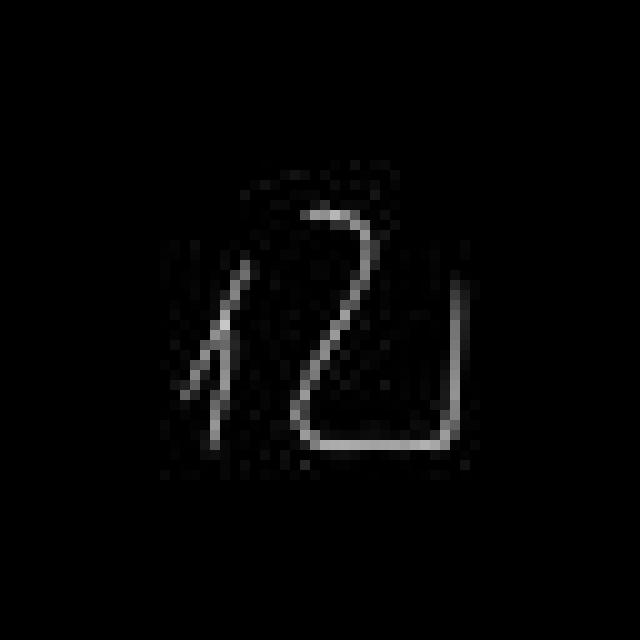100000 -a hundred thousand-: (175, 192, 473, 477)
